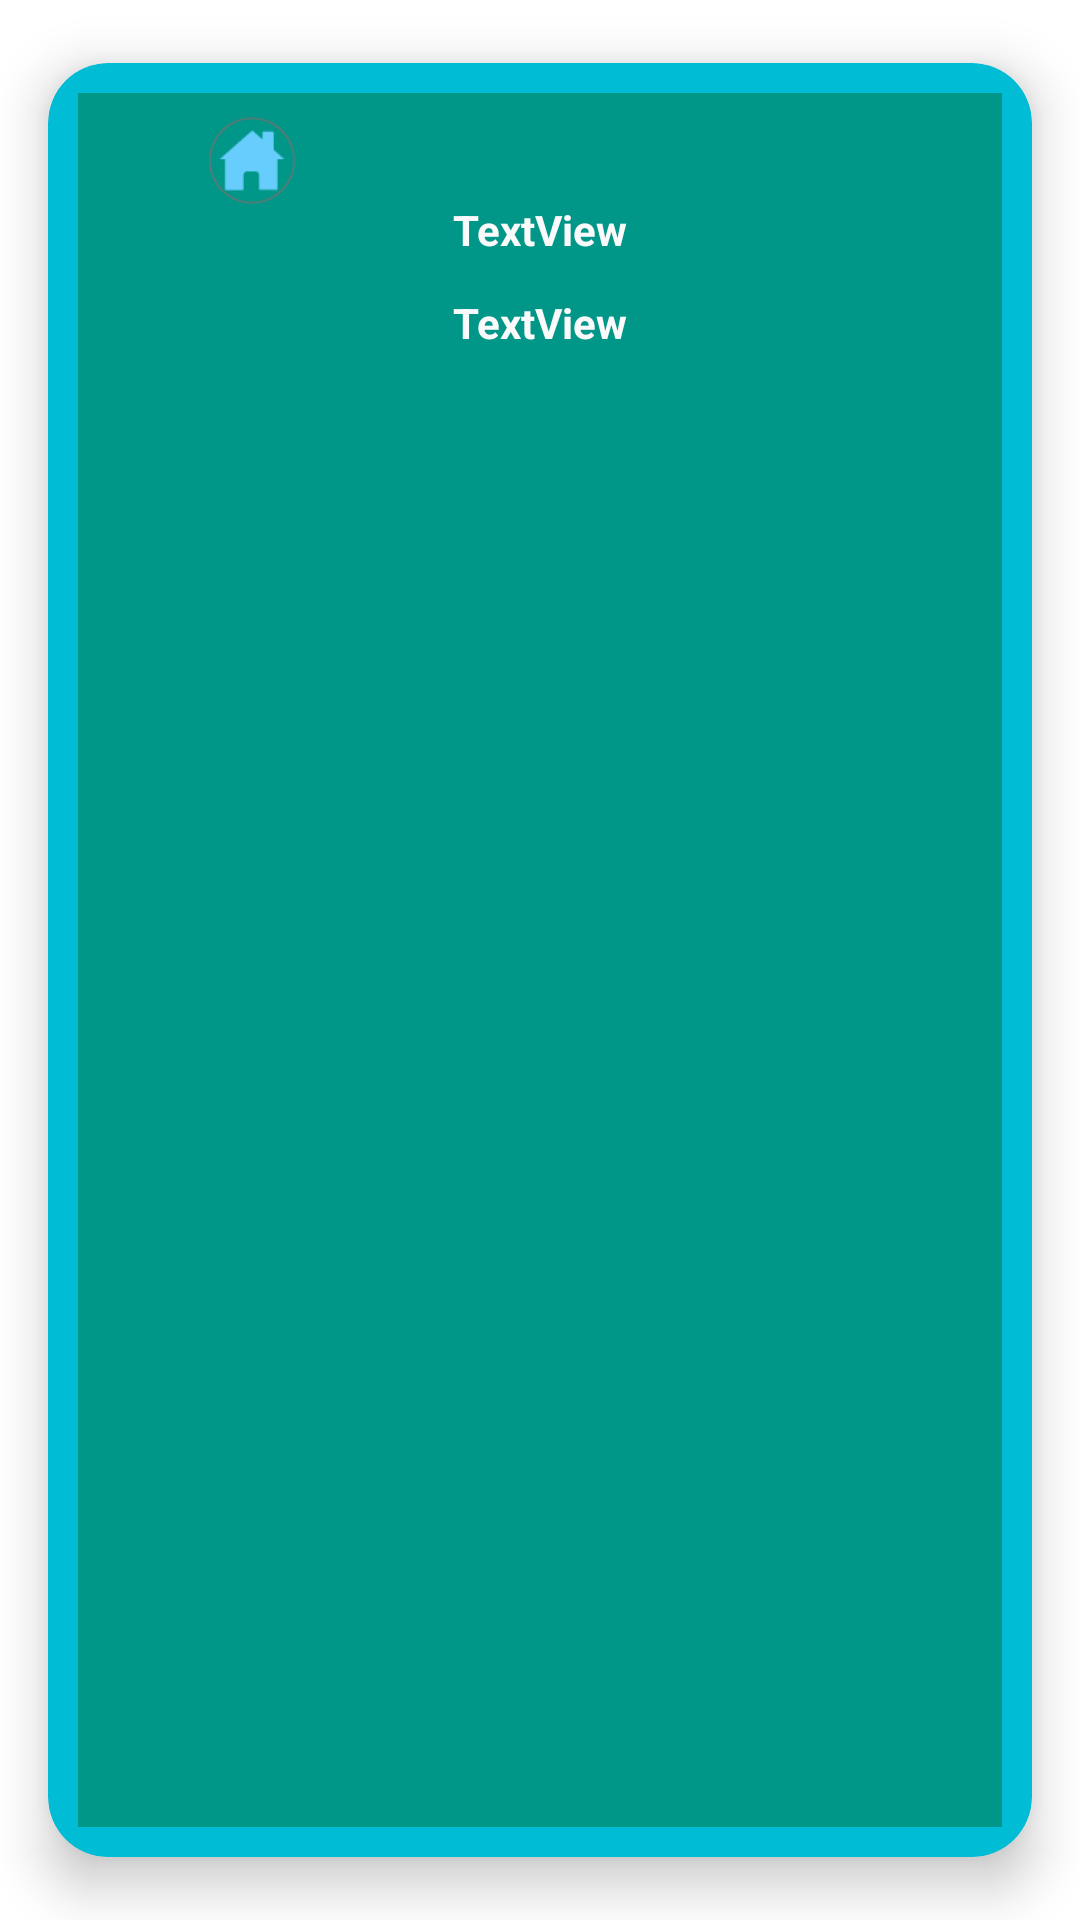

Locate icon controls on the screen. Image size 1080 × 1920, boxes as (x1, y1, x2, y2).
inmuebles: (209, 117, 296, 204)
